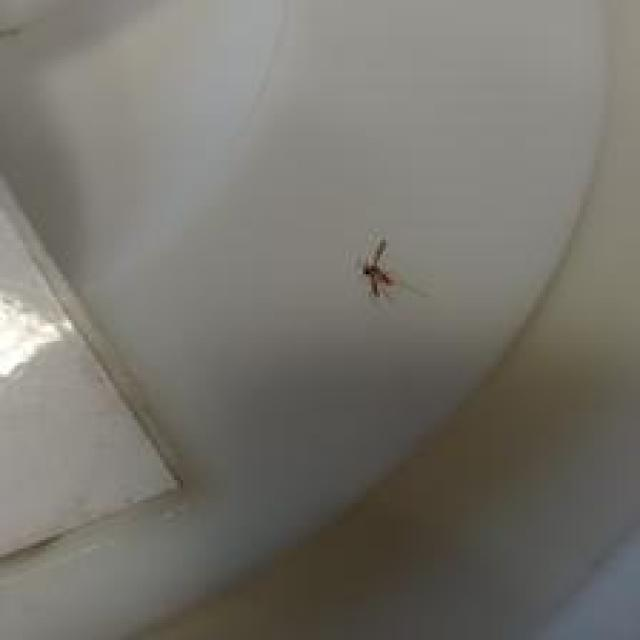Culex: (360, 237, 394, 300)
